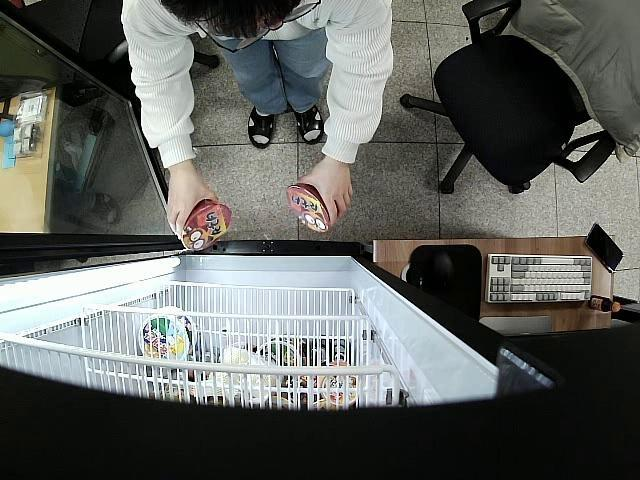05_nuguri_L: (180, 200, 233, 252), (286, 185, 332, 235)
